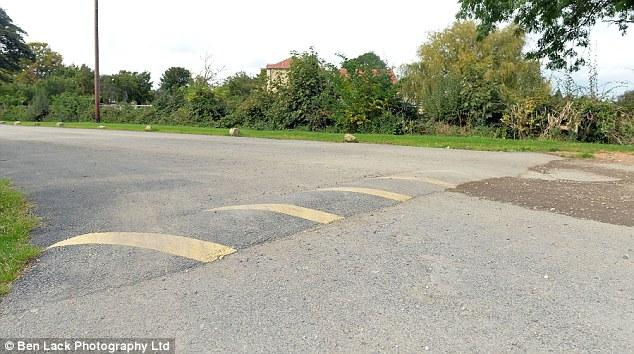Bump: (12, 152, 563, 315)
Pothole: (455, 176, 633, 227)
